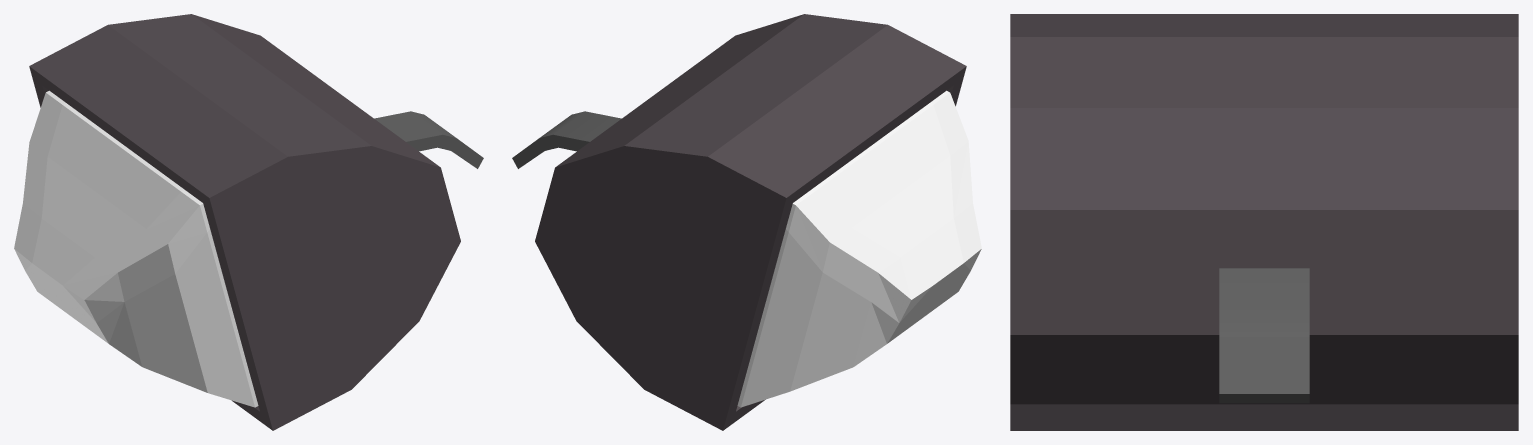
File: SM_lamp_qd_01.fbx
3 views of the same model, side by side, from view 1: azimuth 30°, elevation 25°; view 2: azimuth 150°, elevation 25°; view 3: azimuth 270°, elevation 25° (orthographic). The views are drawn at different scales.
Visible parts, largest first — view 1: lamp_qd_01; view 2: lamp_qd_01; view 3: lamp_qd_01.
Boxes of the visible parts, x1,y1,x2,y2 form: lamp_qd_01: [14, 14, 483, 430]; lamp_qd_01: [512, 14, 981, 430]; lamp_qd_01: [1010, 14, 1518, 430].
Size of the model in its own units: 41.74 by 25.66 by 30.99.
